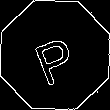P_N: (29, 25, 81, 85)
